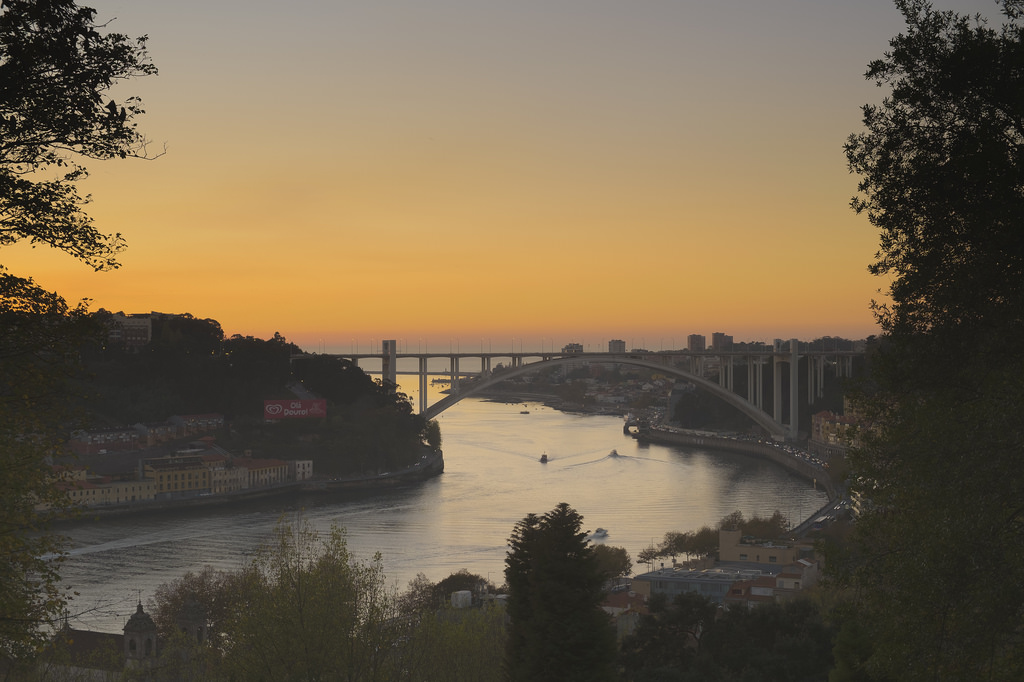arrabida: (338, 337, 860, 446)
